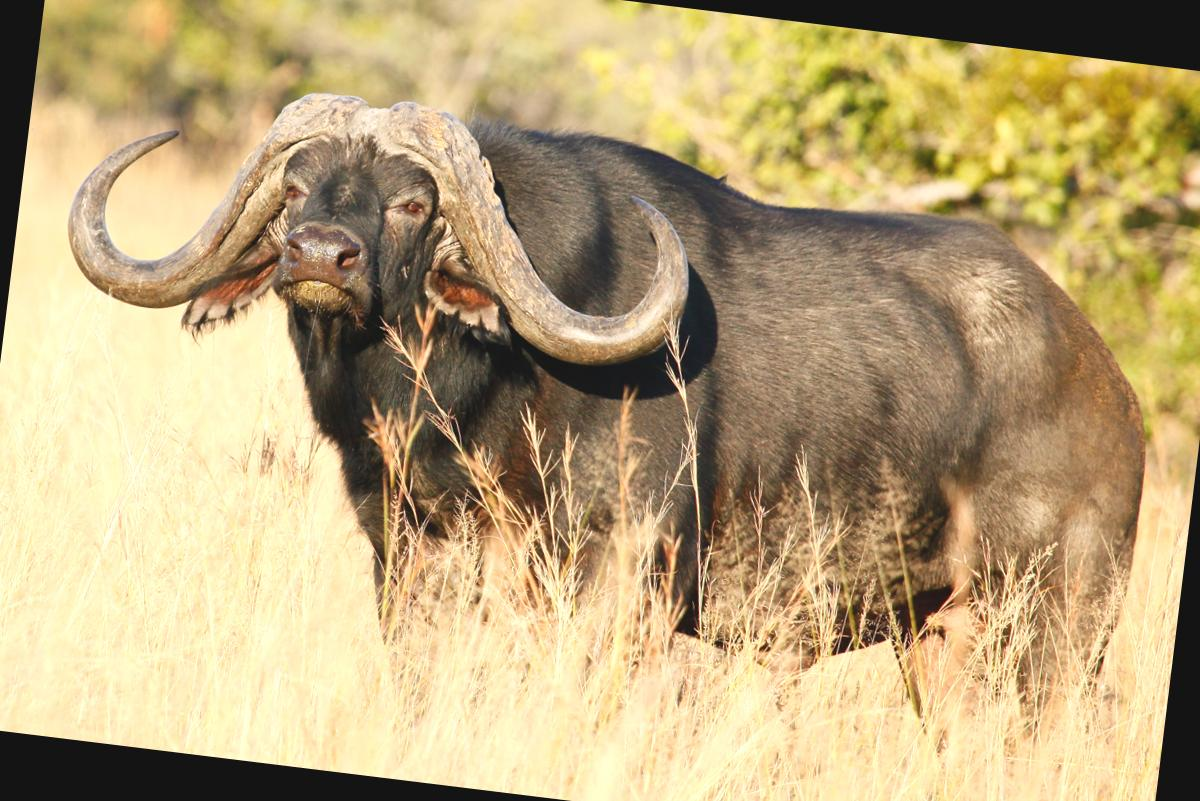Buffalo: (0, 0, 1200, 796)
